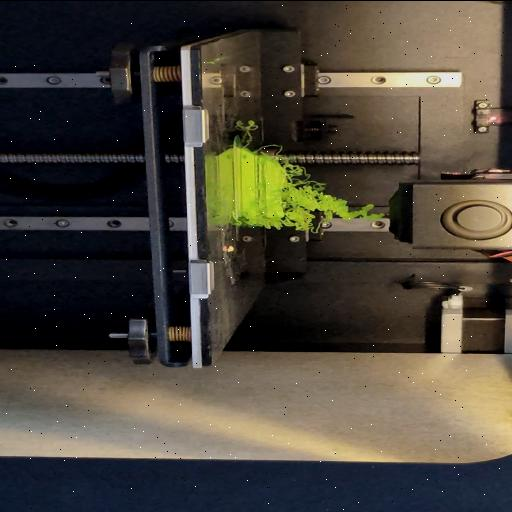spaghetti: (284, 152, 386, 232), (239, 118, 258, 148), (233, 218, 280, 228), (252, 142, 286, 152)
